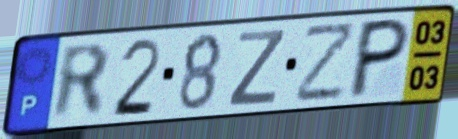2: (111, 35, 164, 119)
8: (176, 32, 226, 114)
P: (344, 15, 414, 102)
R: (51, 41, 113, 123)
Z: (293, 19, 359, 106), (225, 27, 289, 109)
